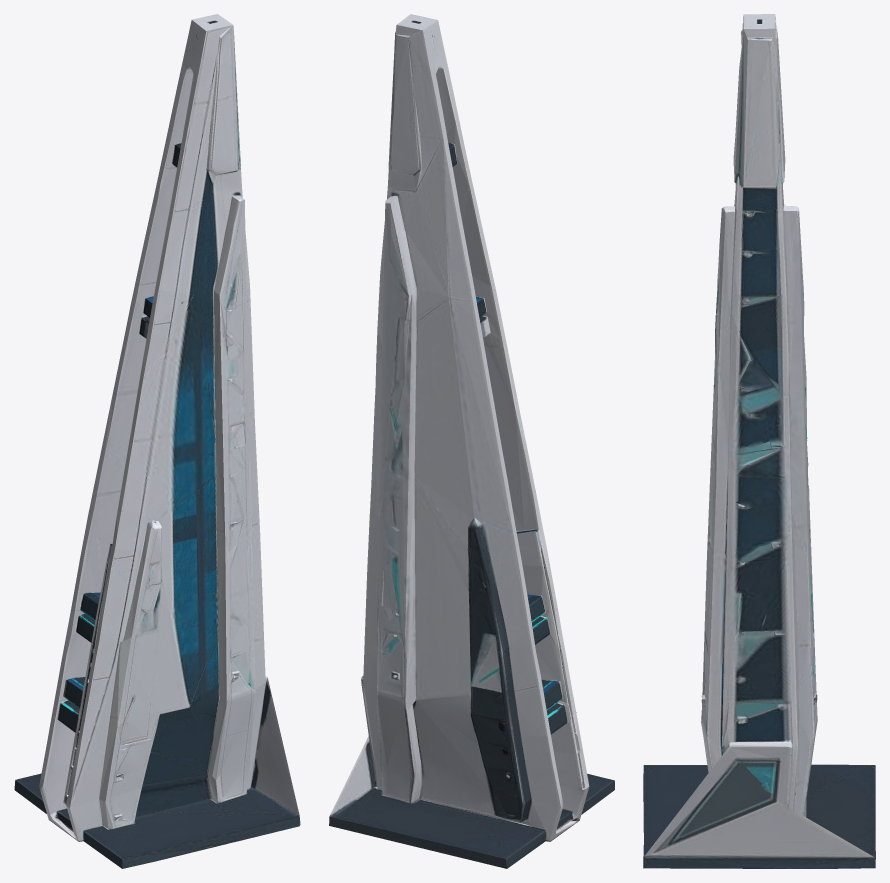
The model's file is tower.glb.
3 views of the same model, side by side, from view 1: azimuth 30°, elevation 25°; view 2: azimuth 150°, elevation 25°; view 3: azimuth 270°, elevation 25° (orthographic). The views are drawn at different scales.
Size of the model in its own units: 0.5156 by 1.9 by 0.4828.
1 material, 1 textured.
